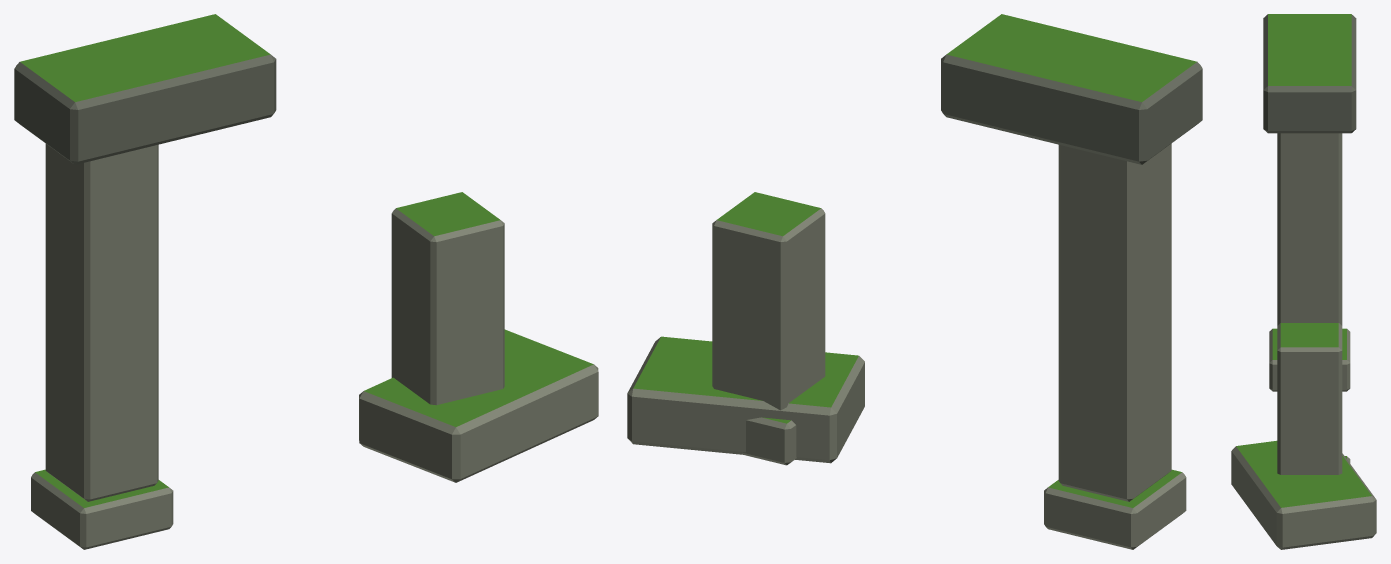
Rendered from Ruin_Arch_Broken.fbx.
3 renders of one model, left to right at view 1: azimuth 30°, elevation 25°; view 2: azimuth 150°, elevation 25°; view 3: azimuth 270°, elevation 25°, orthographic. The views are drawn at different scales.
Visible parts, largest first — view 1: Ruin_Arch_Broken.001; view 2: Ruin_Arch_Broken.001; view 3: Ruin_Arch_Broken.001.
Boxes of the visible parts, left/top/right/bottom form: Ruin_Arch_Broken.001: left=14, top=14, right=598, bottom=549; Ruin_Arch_Broken.001: left=627, top=14, right=1202, bottom=549; Ruin_Arch_Broken.001: left=1231, top=14, right=1376, bottom=549.
Size of the model in its own units: 4.04 by 3.25 by 1.25.
